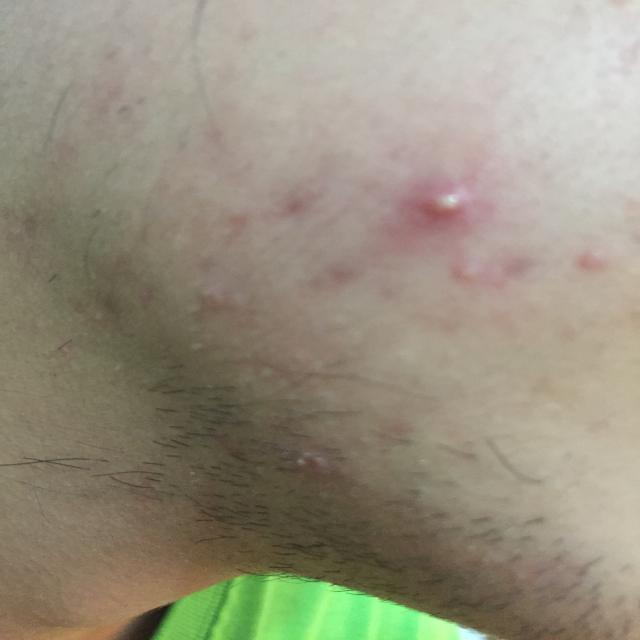blackheads: (400, 176, 496, 228)
